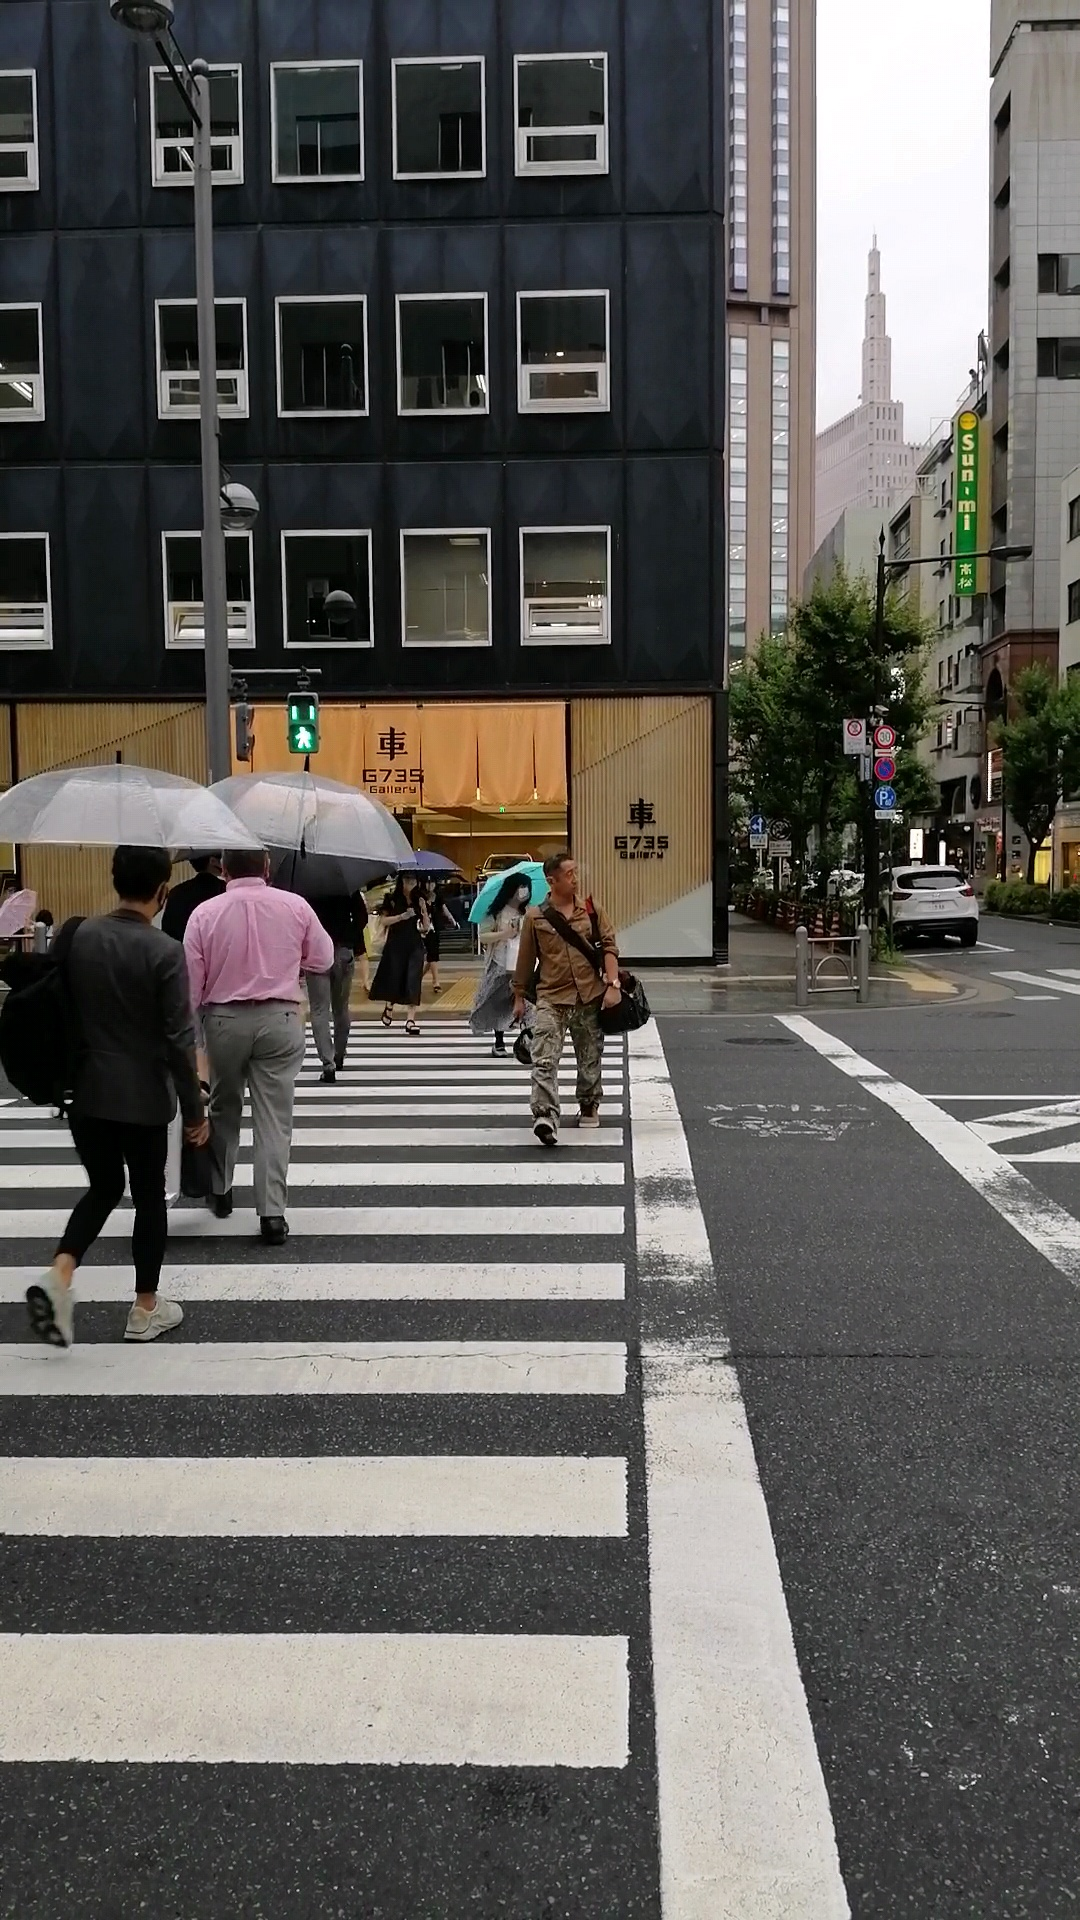green: (286, 691, 319, 756)
